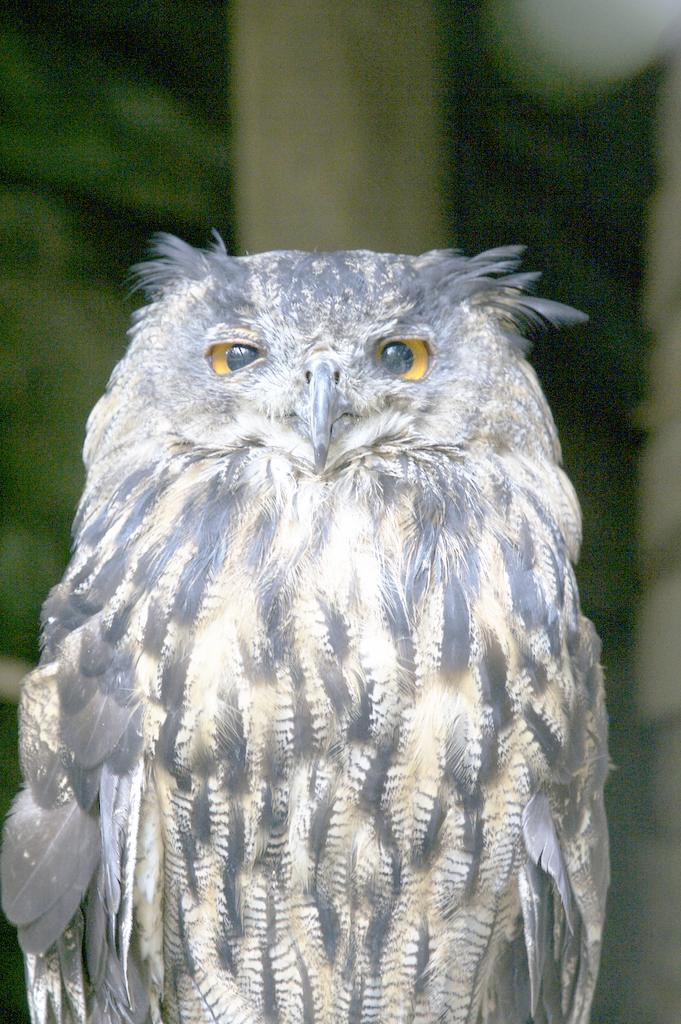Owl: (0, 225, 610, 1024)
